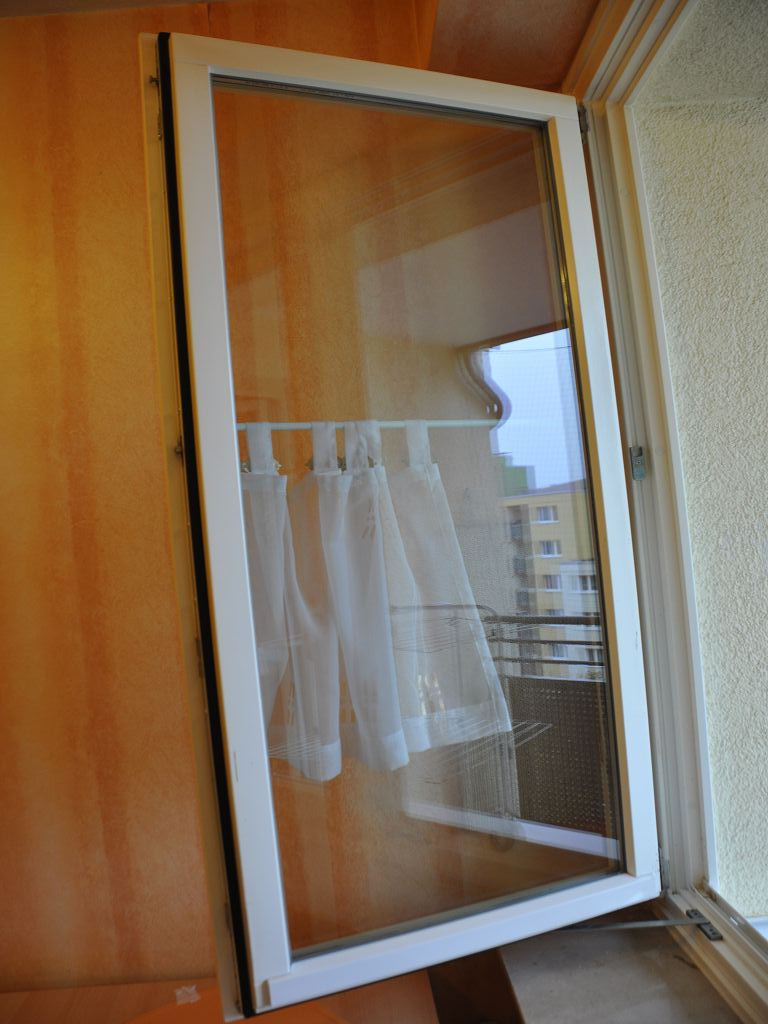windows: (157, 34, 696, 981)
